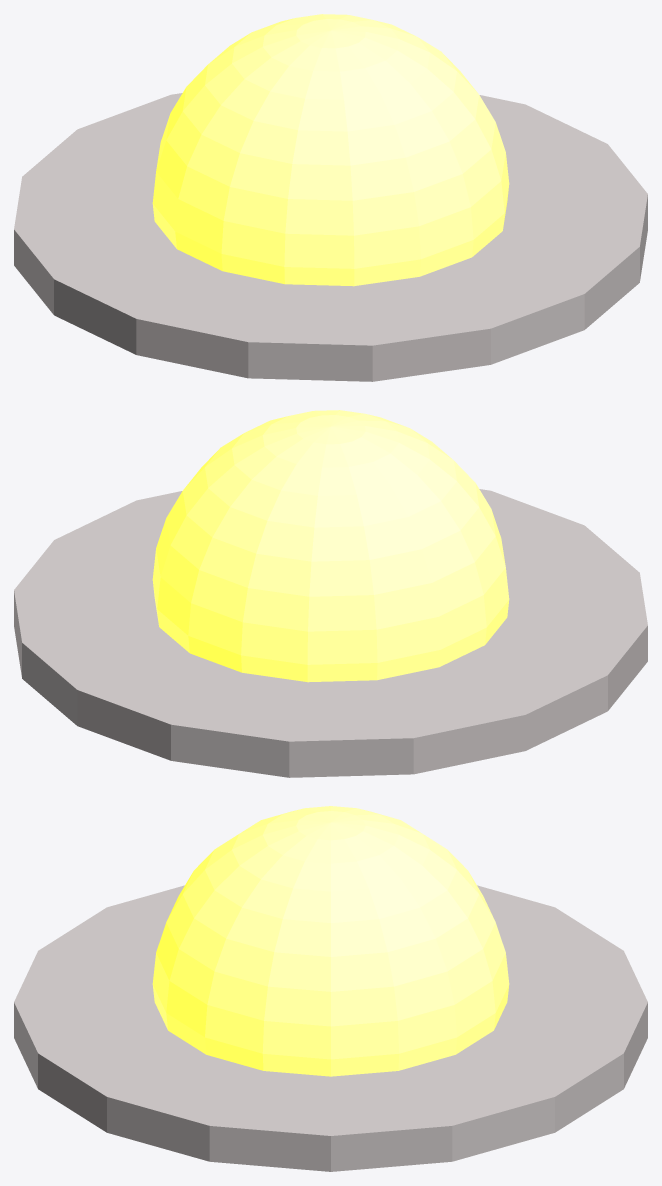
Rendered from mysterious_ufo.glb.
The picture shows the model from 3 angles, top to bottom: view 1: azimuth 30°, elevation 25°; view 2: azimuth 150°, elevation 25°; view 3: azimuth 270°, elevation 25°; orthographic projection.
Visible parts, largest first — view 1: main_disc, main_dome; view 2: main_disc, main_dome; view 3: main_disc, main_dome.
Part boxes in pixels (x1=…): main_disc: x1=14, y1=93, x2=647, y2=381; main_dome: x1=152, y1=14, x2=509, y2=286; main_disc: x1=14, y1=489, x2=647, y2=777; main_dome: x1=152, y1=410, x2=509, y2=682; main_disc: x1=14, y1=885, x2=647, y2=1171; main_dome: x1=152, y1=806, x2=509, y2=1076.
Bounding box in the file's own units: 6.4 × 3.6 × 6.4.
